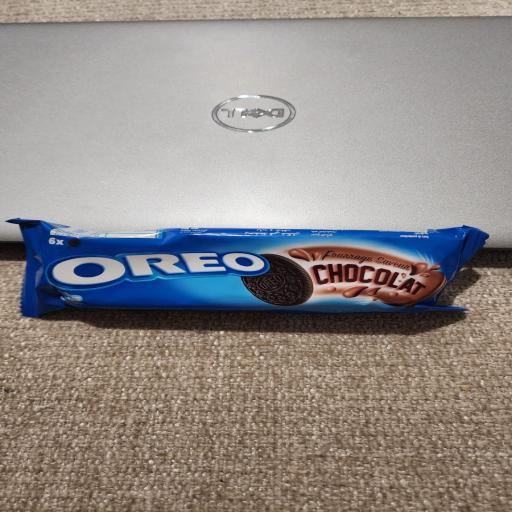oreo: (0, 176, 510, 365)
